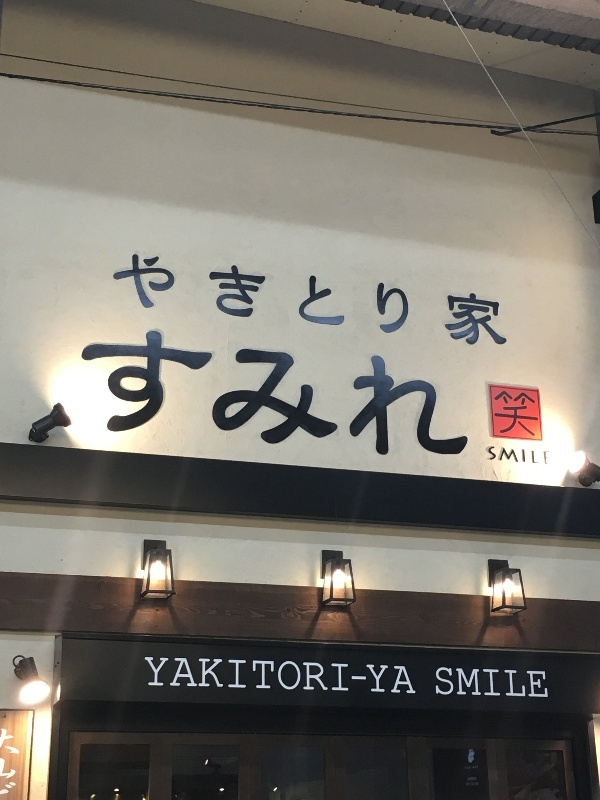text: (81, 324, 96, 459), (97, 324, 112, 459), (113, 324, 128, 459), (129, 324, 144, 459), (145, 324, 160, 459), (161, 324, 176, 459), (177, 324, 192, 459), (193, 324, 208, 459), (209, 324, 224, 459), (225, 324, 240, 459), (241, 324, 256, 459), (257, 324, 272, 459), (273, 324, 288, 459), (289, 324, 304, 459), (305, 324, 320, 459), (321, 324, 336, 459), (337, 324, 352, 459), (353, 324, 368, 459), (369, 324, 384, 459), (385, 324, 400, 459), (401, 324, 416, 459), (417, 324, 432, 459), (433, 324, 448, 459), (449, 324, 464, 459), (113, 250, 128, 349), (129, 250, 144, 349), (145, 250, 160, 349), (161, 250, 176, 349), (177, 250, 192, 349), (193, 250, 208, 349), (209, 250, 224, 349), (225, 250, 240, 349), (241, 250, 256, 349), (257, 250, 272, 349), (273, 250, 288, 349), (289, 250, 304, 349), (305, 250, 320, 349), (321, 250, 336, 349), (337, 250, 352, 349), (353, 250, 368, 349), (369, 250, 384, 349), (385, 250, 400, 349), (401, 250, 416, 349), (417, 250, 432, 349), (433, 250, 448, 349), (449, 250, 464, 349), (465, 250, 480, 349), (481, 250, 496, 349), (497, 250, 511, 349), (1, 726, 16, 797), (497, 391, 512, 439), (513, 391, 528, 439), (465, 324, 470, 459), (145, 655, 160, 698), (161, 655, 176, 698), (177, 655, 192, 698), (193, 655, 208, 698), (209, 655, 224, 698), (225, 655, 240, 698), (241, 655, 256, 698), (257, 655, 272, 698), (273, 655, 288, 698), (289, 655, 304, 698), (305, 655, 320, 698), (321, 655, 336, 698), (337, 655, 352, 698), (353, 655, 368, 698), (369, 655, 384, 698), (385, 655, 400, 698), (401, 655, 416, 698), (449, 667, 464, 703), (465, 667, 480, 703), (481, 667, 496, 703), (497, 667, 512, 703), (513, 667, 528, 703), (529, 667, 544, 703), (529, 391, 539, 439), (436, 667, 448, 703), (17, 726, 23, 797), (77, 324, 80, 459), (497, 445, 512, 469), (513, 445, 528, 469), (529, 445, 544, 469), (486, 445, 496, 469), (110, 250, 112, 349), (545, 667, 550, 703), (545, 445, 552, 469), (493, 391, 496, 439), (417, 655, 419, 698), (143, 655, 144, 698)
